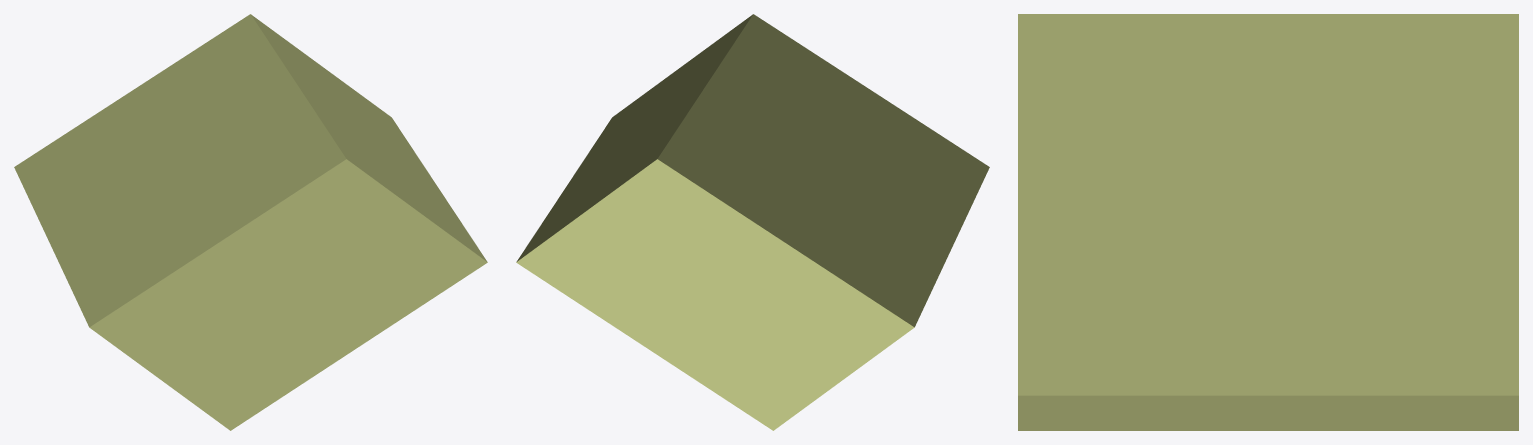
3 renders of one model, left to right at view 1: azimuth 30°, elevation 25°; view 2: azimuth 150°, elevation 25°; view 3: azimuth 270°, elevation 25°, orthographic. The views are drawn at different scales.
Parts seen in each view (by area): view 1: 0_1_1_3_2_2_0_2_3_0_3; view 2: 0_1_1_3_2_2_0_2_3_0_3; view 3: 0_1_1_3_2_2_0_2_3_0_3.
Boxes of the visible parts, x1,y1,x2,y2 form: 0_1_1_3_2_2_0_2_3_0_3: [14, 14, 487, 430]; 0_1_1_3_2_2_0_2_3_0_3: [516, 14, 989, 430]; 0_1_1_3_2_2_0_2_3_0_3: [1018, 14, 1518, 430].
Size of the model in its own units: 8.15 by 6.42 by 6.
